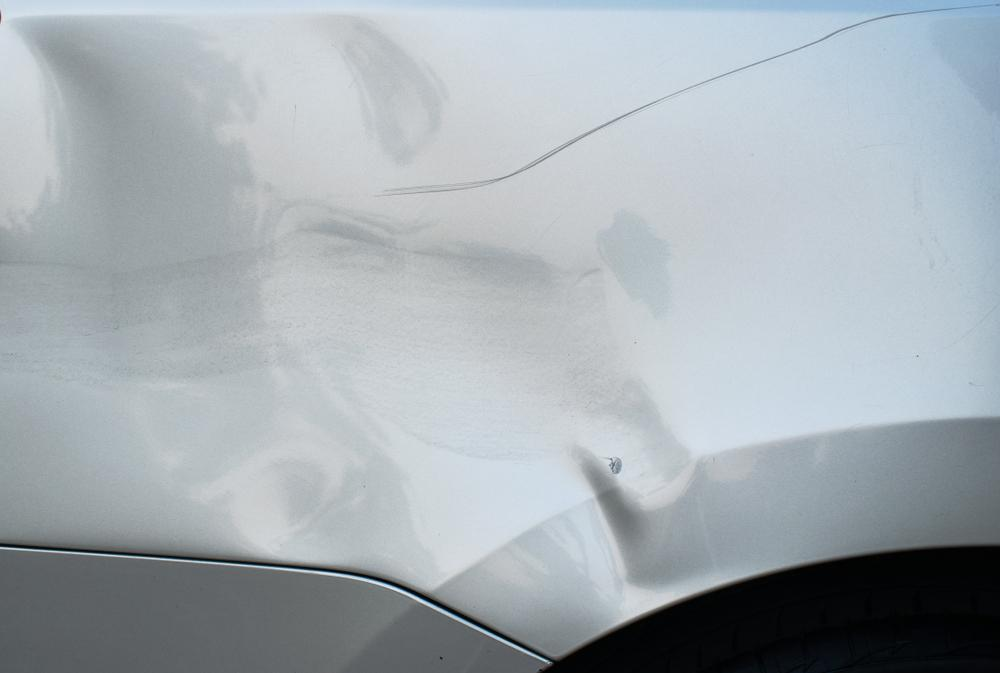dent: (0, 4, 722, 605)
scratch: (416, 0, 1000, 197)
